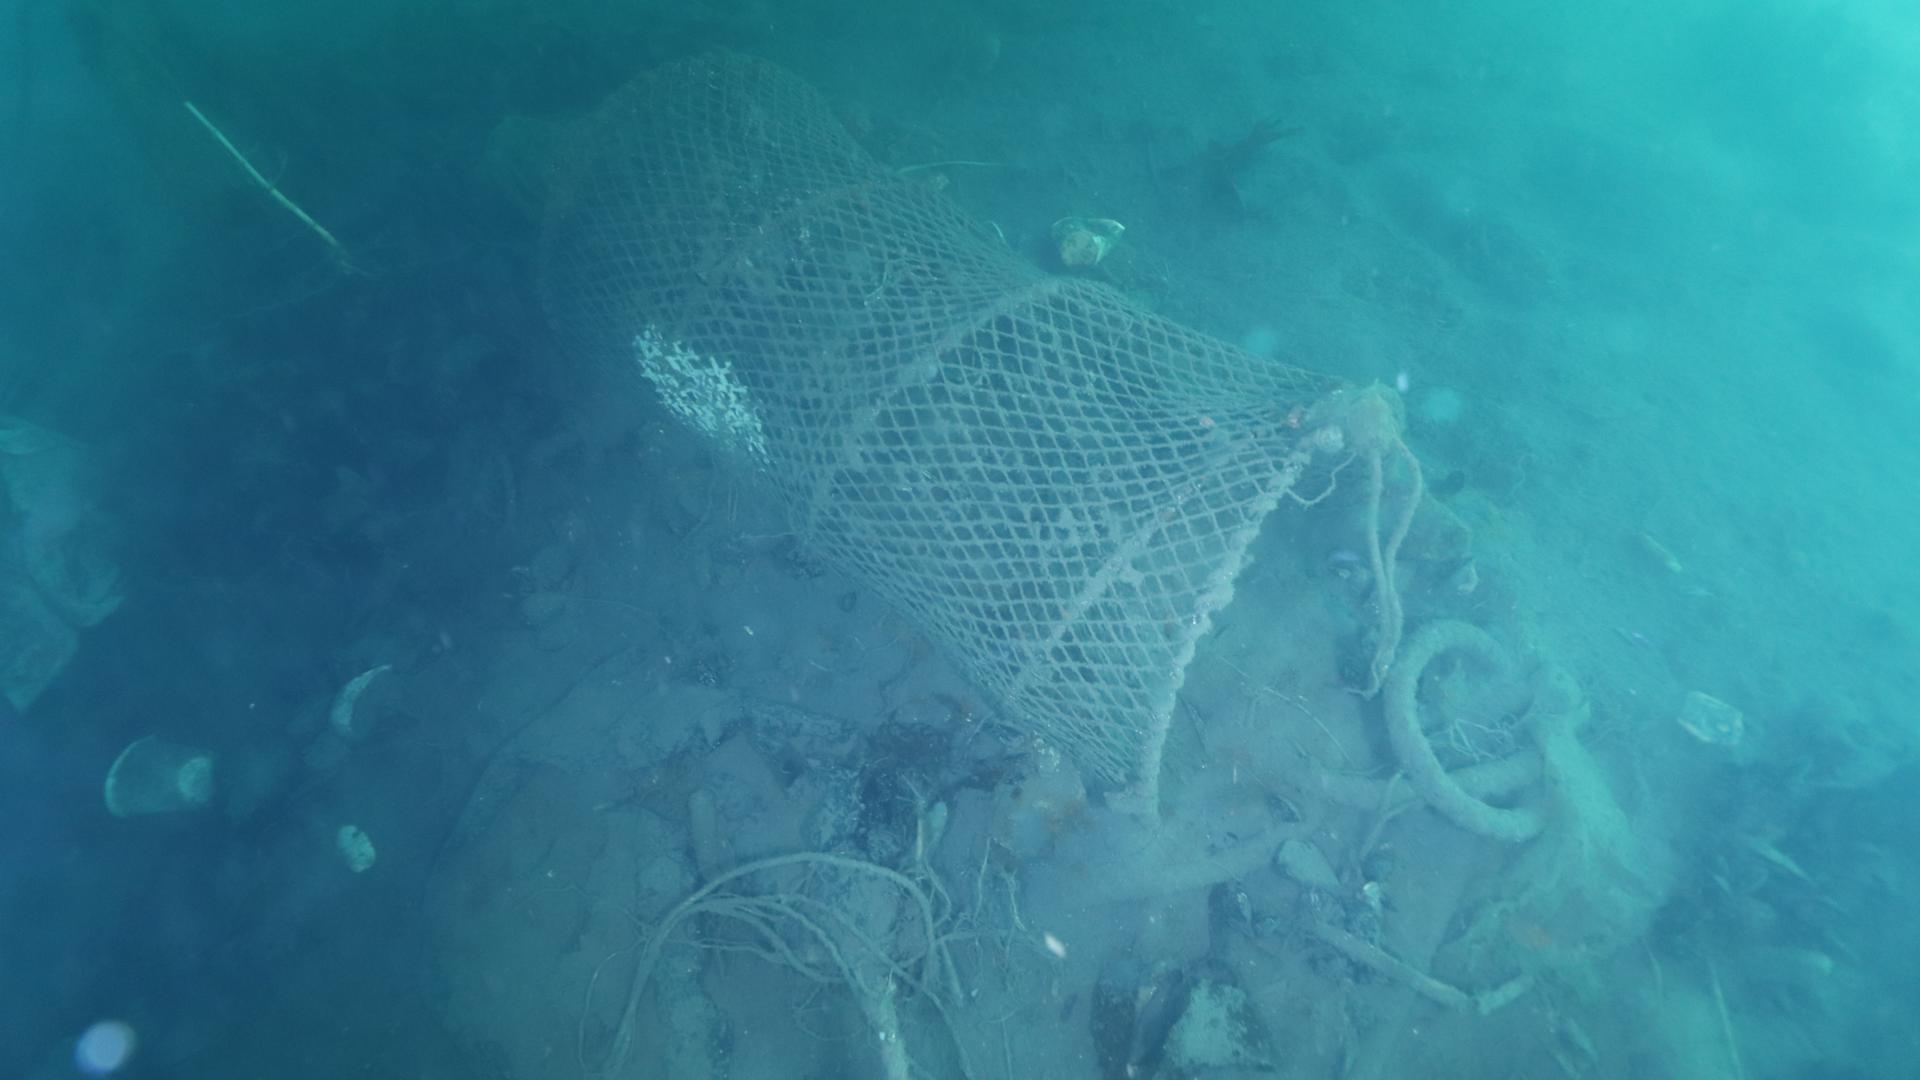spring fish trap: (522, 55, 1398, 827)
